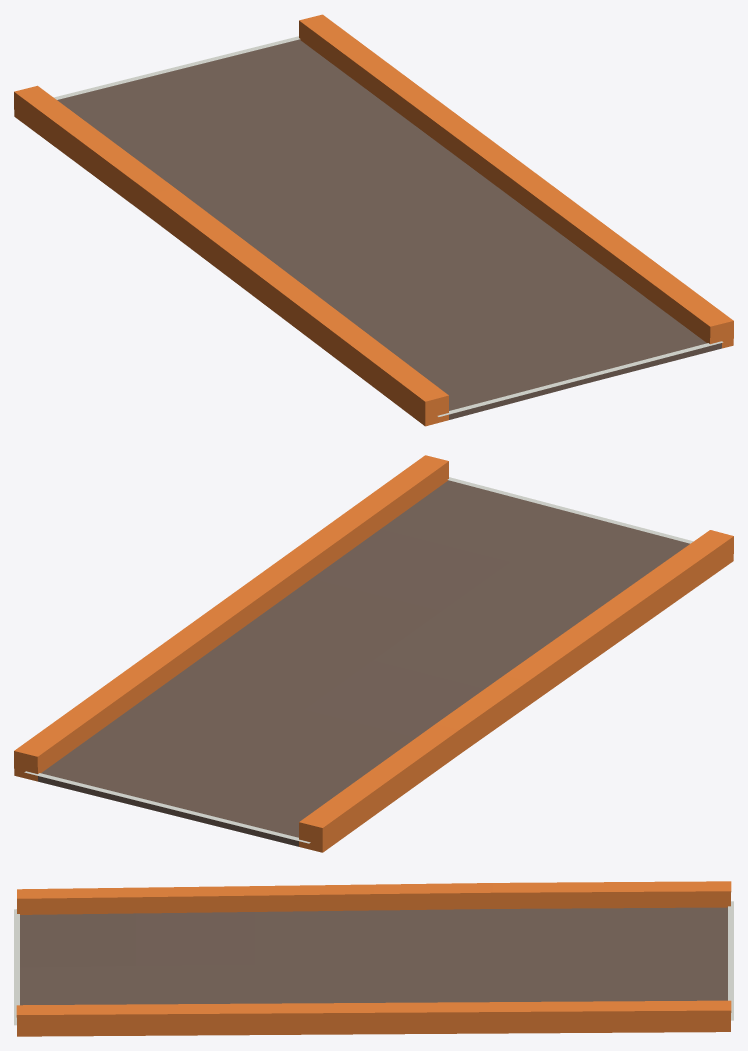
File: SM_MP_Film_C_1_2.fbx
3 renders of one model, top to bottom at view 1: azimuth 30°, elevation 25°; view 2: azimuth 150°, elevation 25°; view 3: azimuth 270°, elevation 25°, orthographic. The views are drawn at different scales.
Parts seen in each view (by area): view 1: SM_MP_Film_C_1_2; view 2: SM_MP_Film_C_1_2; view 3: SM_MP_Film_C_1_2.
Part boxes in pixels (x1,y1,x2,y2): SM_MP_Film_C_1_2: (14,14,733,426); SM_MP_Film_C_1_2: (14,455,733,852); SM_MP_Film_C_1_2: (14,881,733,1036).
Size of what is drawn, in the model's own units: 260 by 605 by 28.81.
